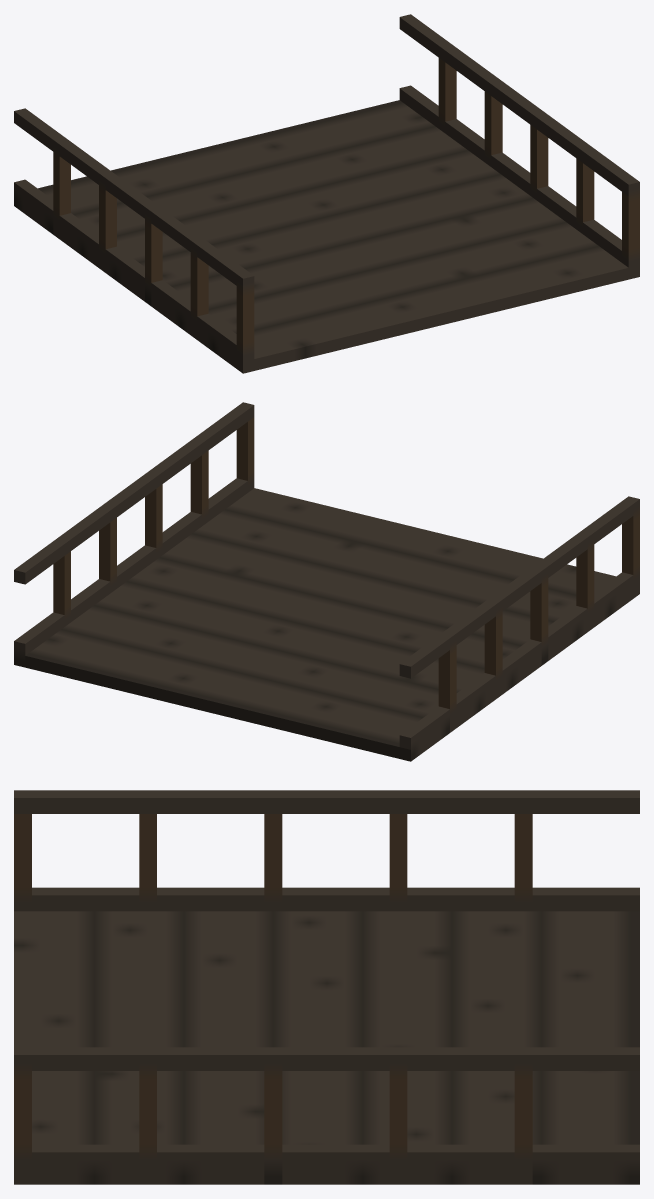
File: Pier Piece.dae
3 views of the same model, one above another, from view 1: azimuth 30°, elevation 25°; view 2: azimuth 150°, elevation 25°; view 3: azimuth 270°, elevation 25° (orthographic). The views are drawn at different scales.
Parts seen in each view (by area): view 1: Pier Piece; view 2: Pier Piece; view 3: Pier Piece.
Boxes of the visible parts, left/top/right/bottom form: Pier Piece: left=14, top=14, right=639, bottom=373; Pier Piece: left=14, top=402, right=639, bottom=761; Pier Piece: left=14, top=790, right=639, bottom=1184.
Bounding box in the file's own units: 35 × 8 × 35.
1 material, 1 textured.
